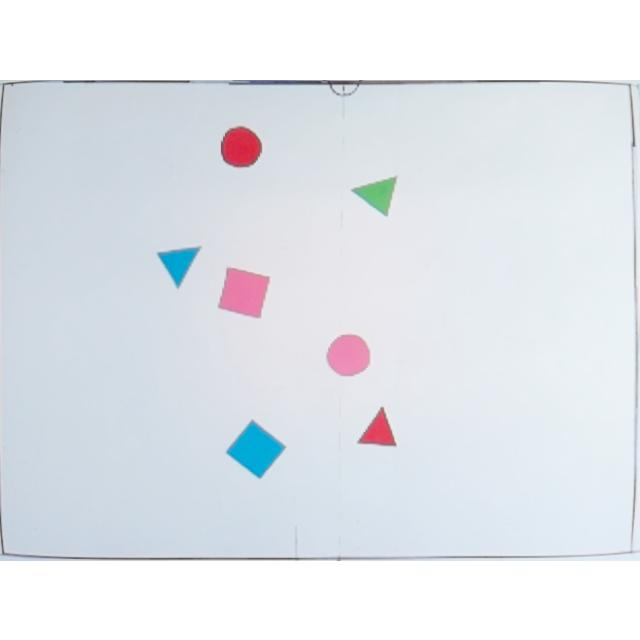blueSquare: (224, 416, 286, 479)
blueTriangle: (158, 243, 202, 289)
greenTriangle: (350, 173, 398, 215)
pinkCircle: (328, 332, 370, 376)
pinkSquare: (218, 264, 270, 318)
redCircle: (220, 126, 262, 166)
redTriangle: (356, 404, 396, 448)
